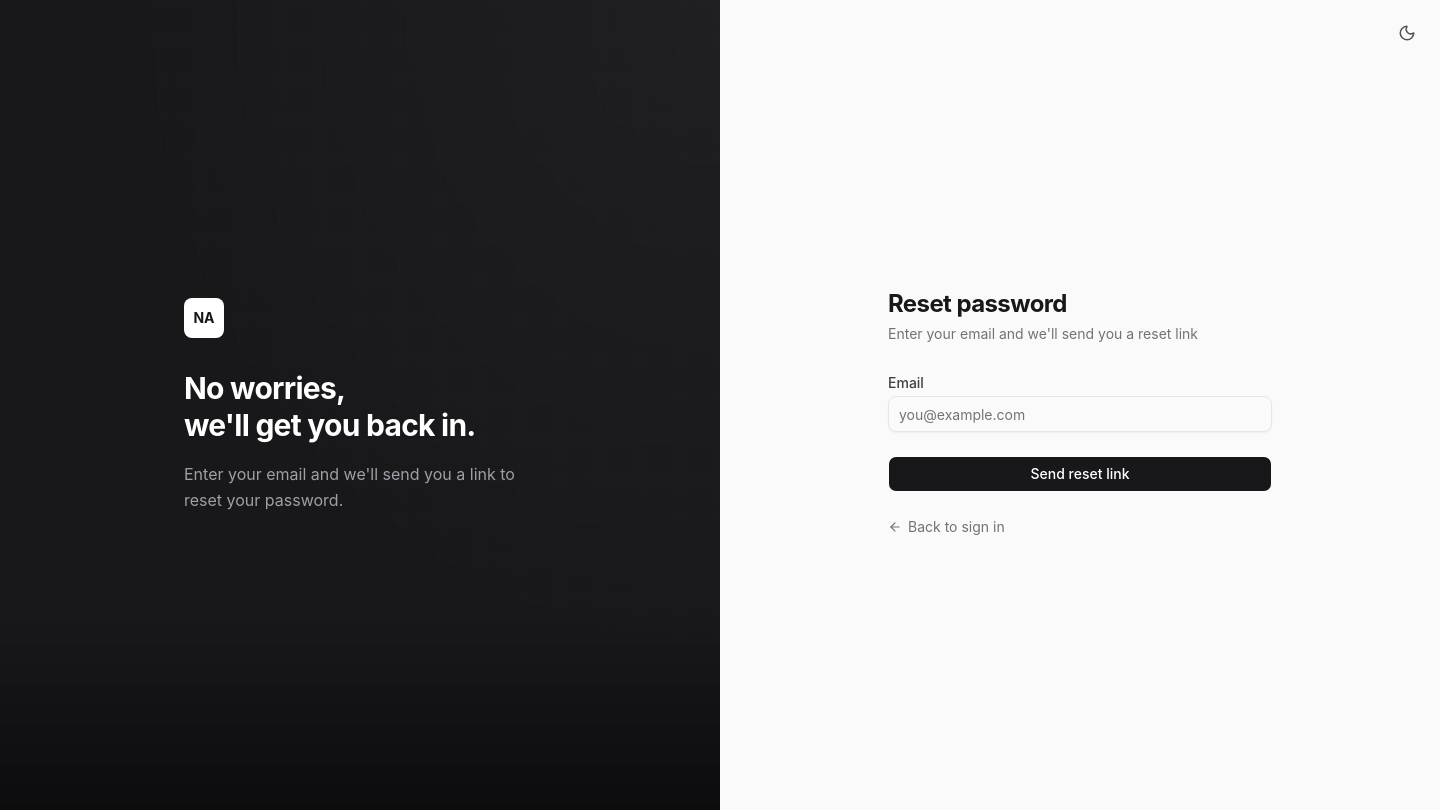
Test: ForgotPasswordForm › requests the link and confirms without revealing whether the account exists
The image size is (1440, 810).
Type "ada@example.test" into the field labelled "Email". click: [1080, 414]
box: [888,396,1272,432]
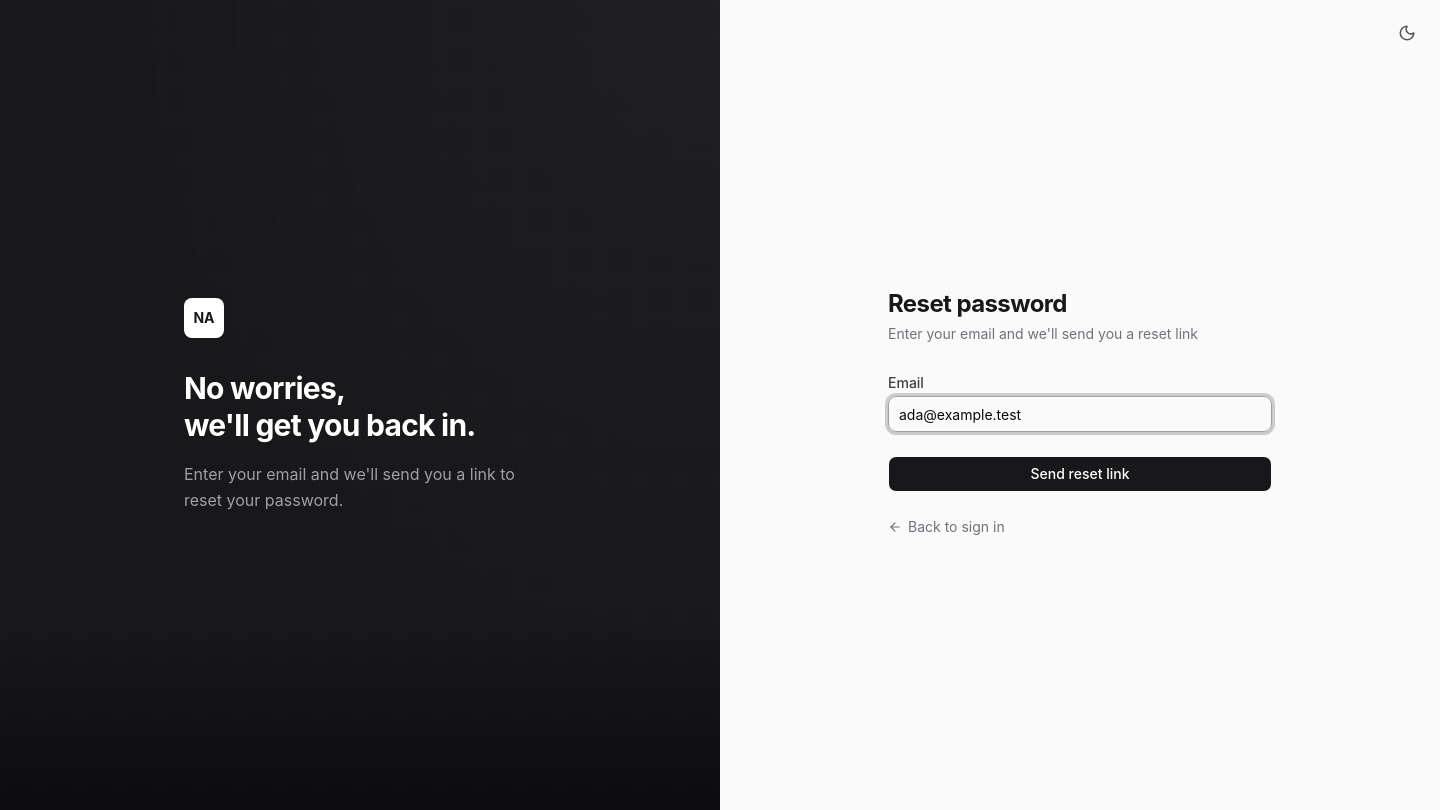
Click the button "Send reset link". click: [1080, 474]
box: [888,456,1272,492]
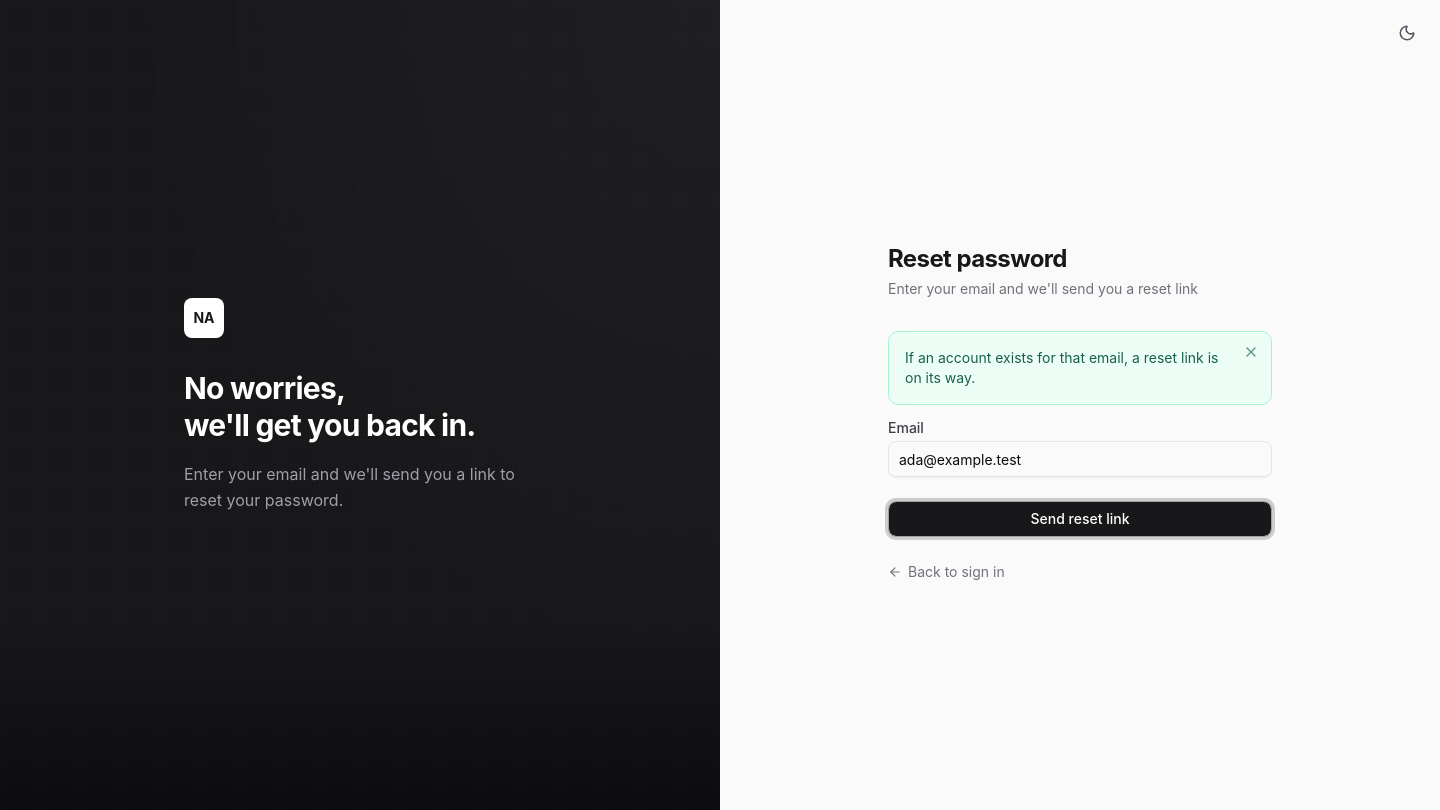
Check: the text "If an account exists for that email" is shown, box [905,349,1218,386]
